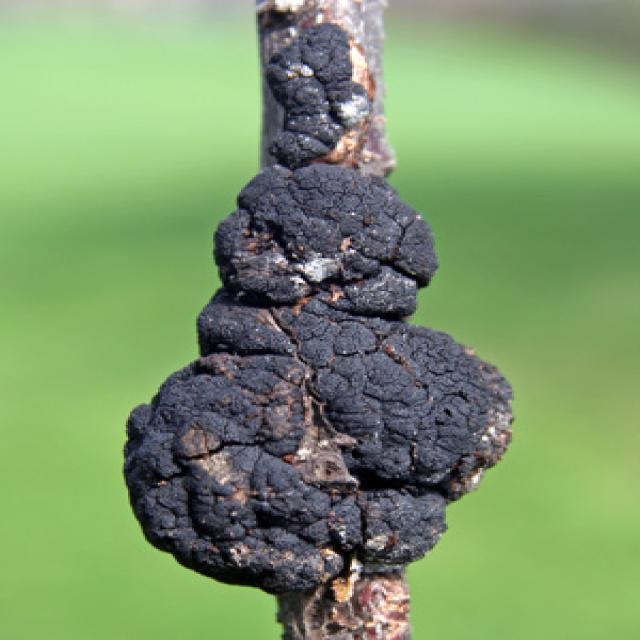Black_knot: (120, 0, 518, 597)
